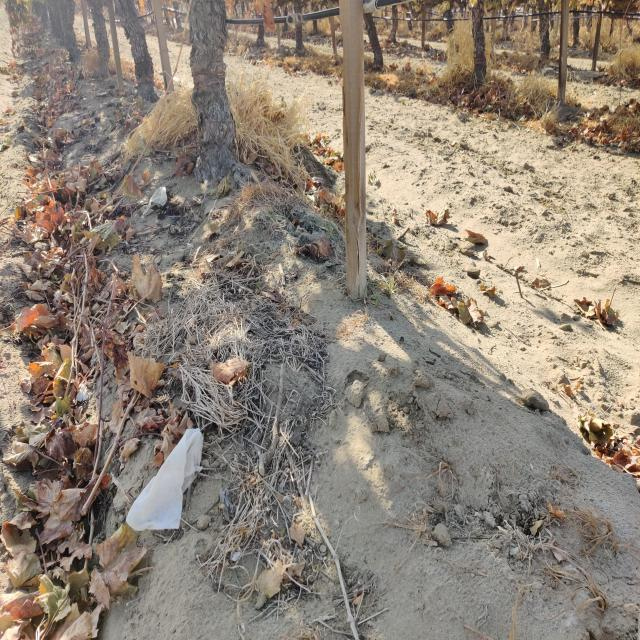litter: (125, 426, 202, 530)
